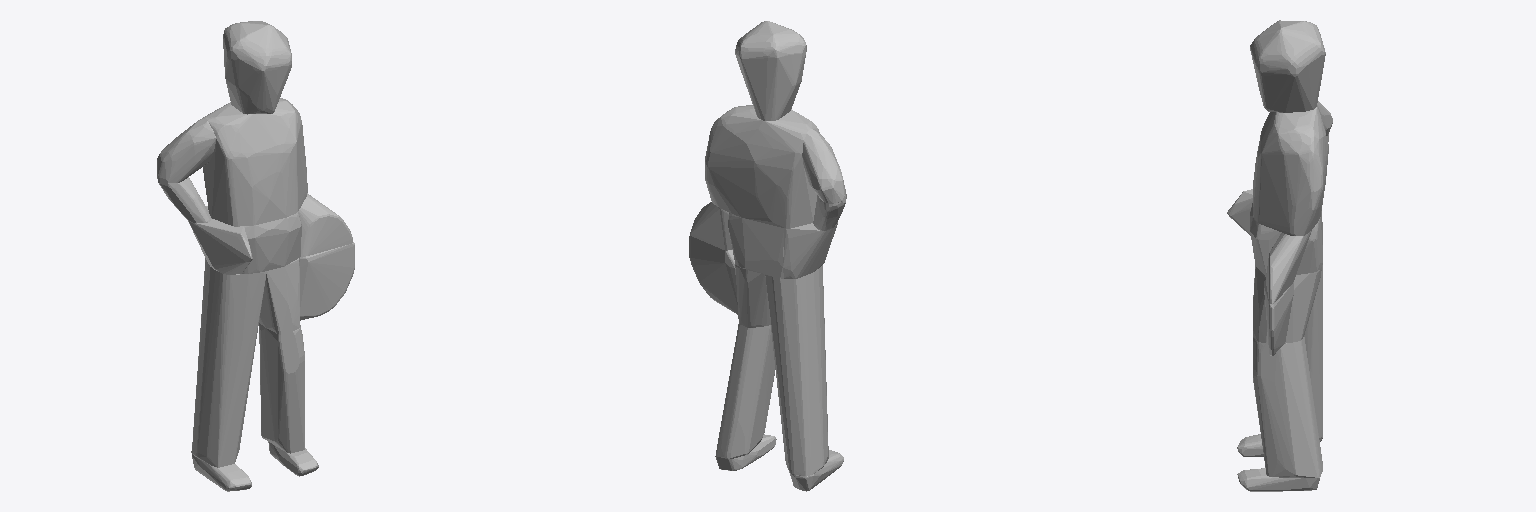
robot.urdf — root:
<?xml version="1.0"?>
<robot name="root">
  <link name="base_link">
    <visual>
      <origin xyz="0 0 0" rpy="0 0 0" />
      <geometry>
        <mesh filename="../meshes/unidex_sem_PersonStanding-a0dfc28cdafc3be913497dd48d9d7c76_008.obj" scale="1.0000E+00 1.0000E+00 1.0000E+00" />
      </geometry>
      <material name="">
        <color rgba="7.50E-01 7.50E-01 7.50E-01 1" />
      </material>
    </visual>
    <collision>
      <origin xyz="0 0 0" rpy="0 0 0" />
      <geometry>
        <mesh filename="../meshes/unidex_sem_PersonStanding-a0dfc28cdafc3be913497dd48d9d7c76_008.obj" scale="1.0000E+00 1.0000E+00 1.0000E+00" />
      </geometry>
    </collision>
  </link>
</robot>

--- Render facts (derived) ---
3 views of the same robot in one strip: view 1: azimuth 30°, elevation 25°; view 2: azimuth 150°, elevation 25°; view 3: azimuth 270°, elevation 25° (orthographic).
Robot: root — 1 links, 0 joints (none); root link base_link; default pose: all joints at 0.
Links seen in each view (by area): view 1: base_link; view 2: base_link; view 3: base_link.
Boxes of the visible links, x1,y1,x2,y2 form: base_link: (157,21,354,491); base_link: (689,21,846,491); base_link: (1227,20,1332,491).
Size in the robot's own frame: 0.0625 by 0.0325 by 0.151 metres.
Meshes: 1 distinct files referenced, 1 mesh visuals loaded (1 OBJ).
